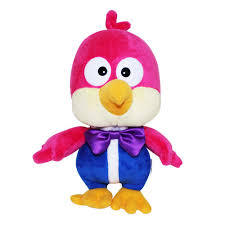Harry: (32, 6, 184, 215)
